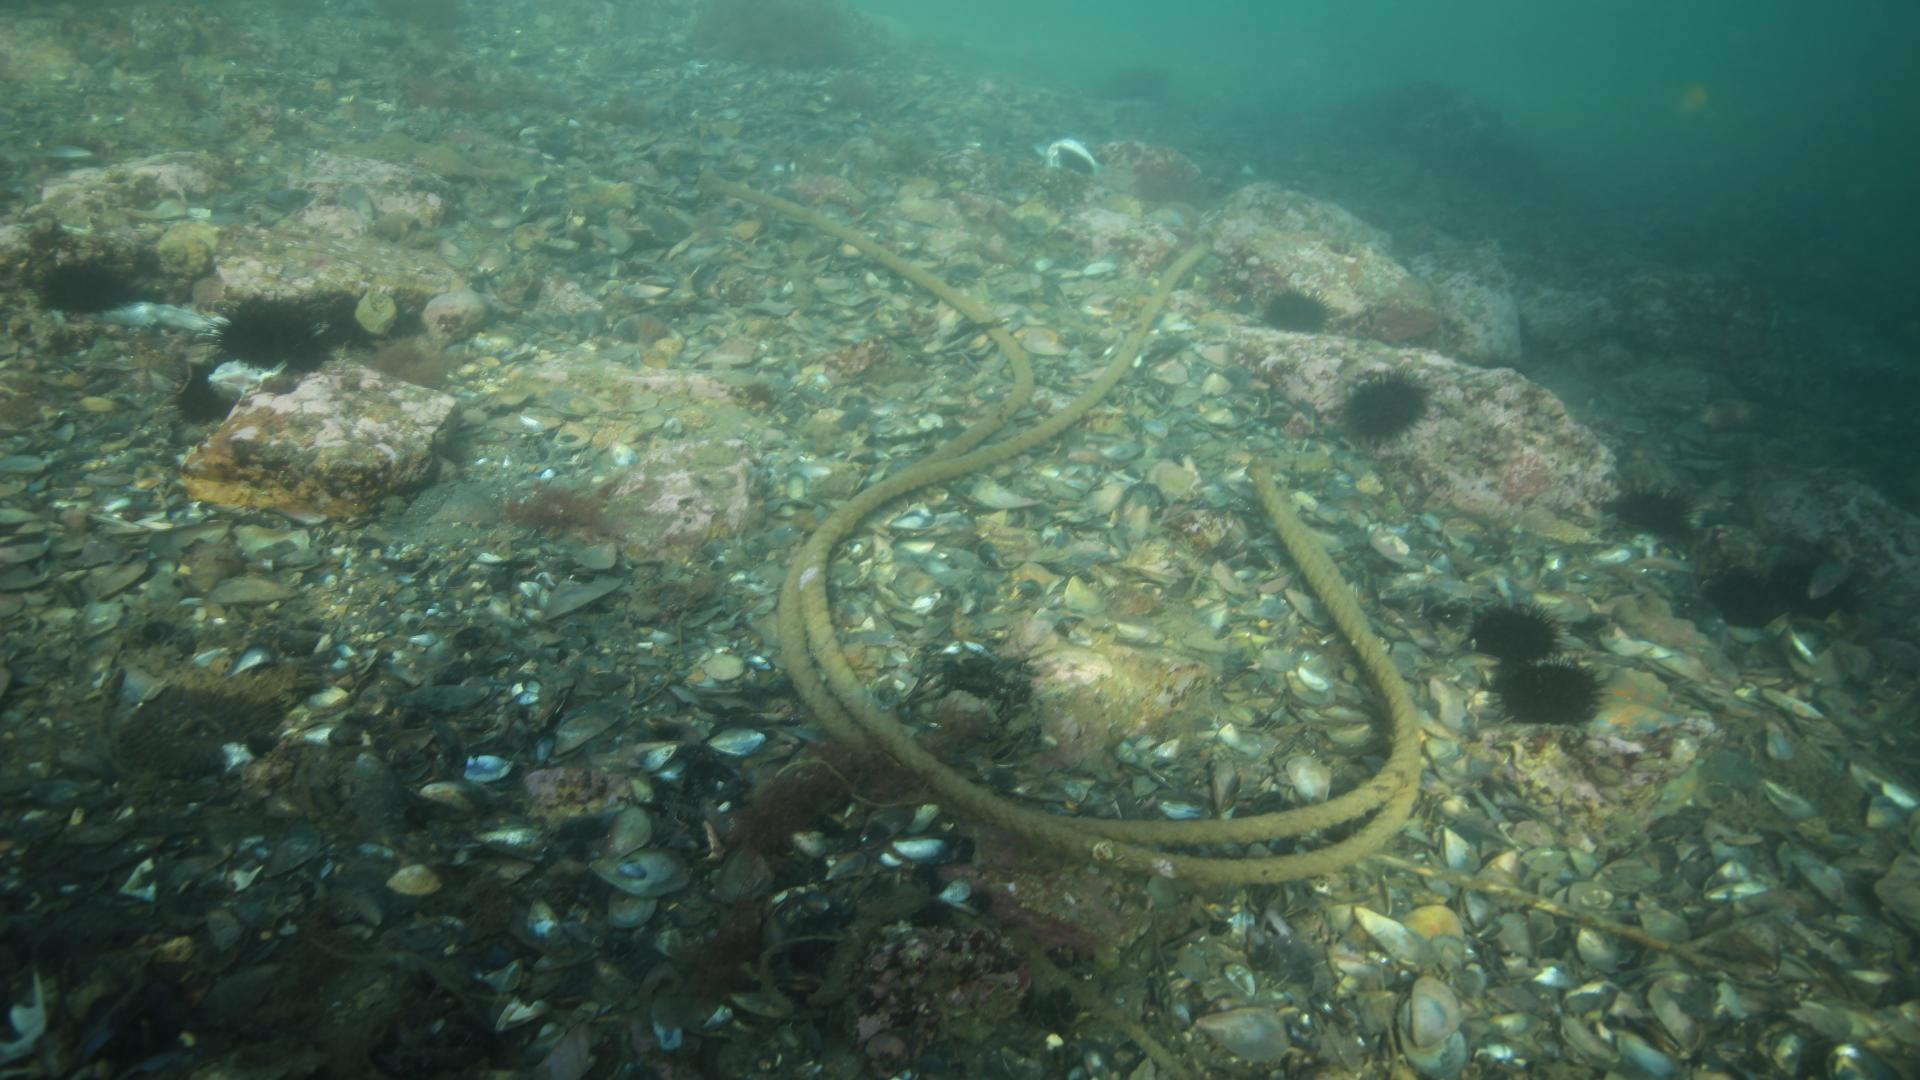bundle of ropes: (690, 160, 1425, 890)
